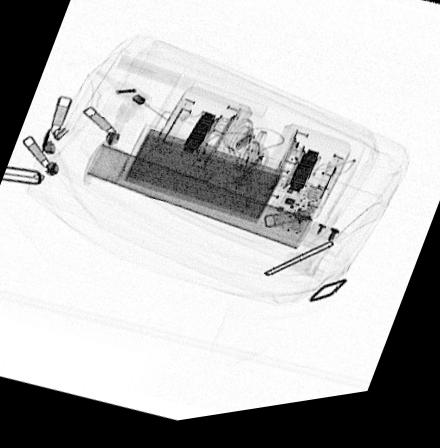Powerbank: (110, 127, 293, 236)
